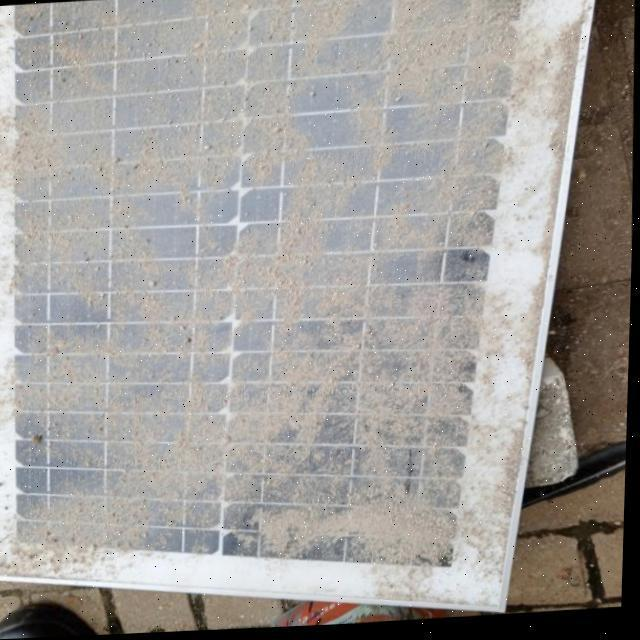Anomaly Solar Panel: (0, 0, 501, 561)
Surface Contaminant: (8, 0, 492, 561)
